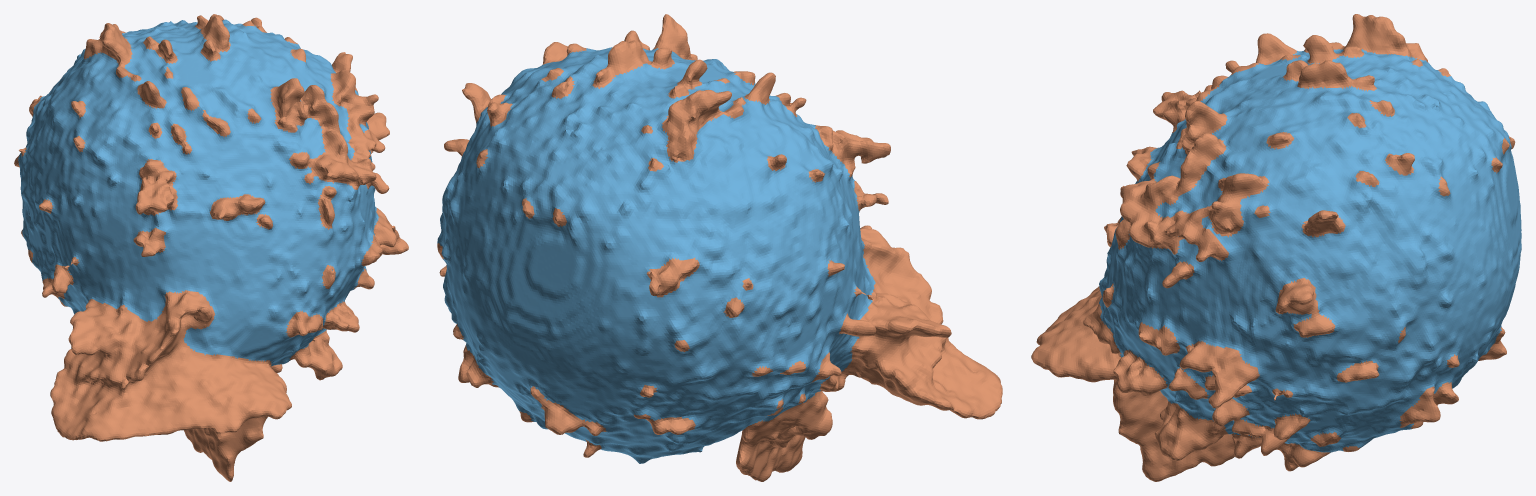
3 views of the same model, side by side, from view 1: azimuth 30°, elevation 25°; view 2: azimuth 150°, elevation 25°; view 3: azimuth 270°, elevation 25° (orthographic). The views are drawn at different scales.
Size of the model in its own units: 166 by 161 by 156.
